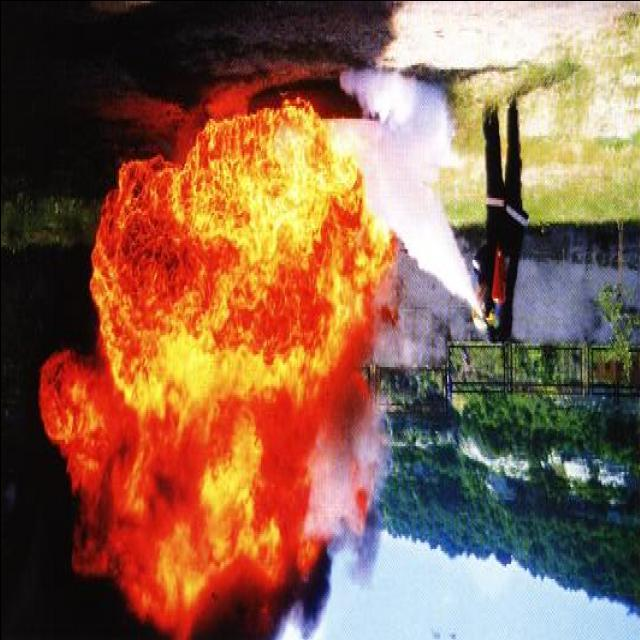Fire: (39, 81, 398, 632)
